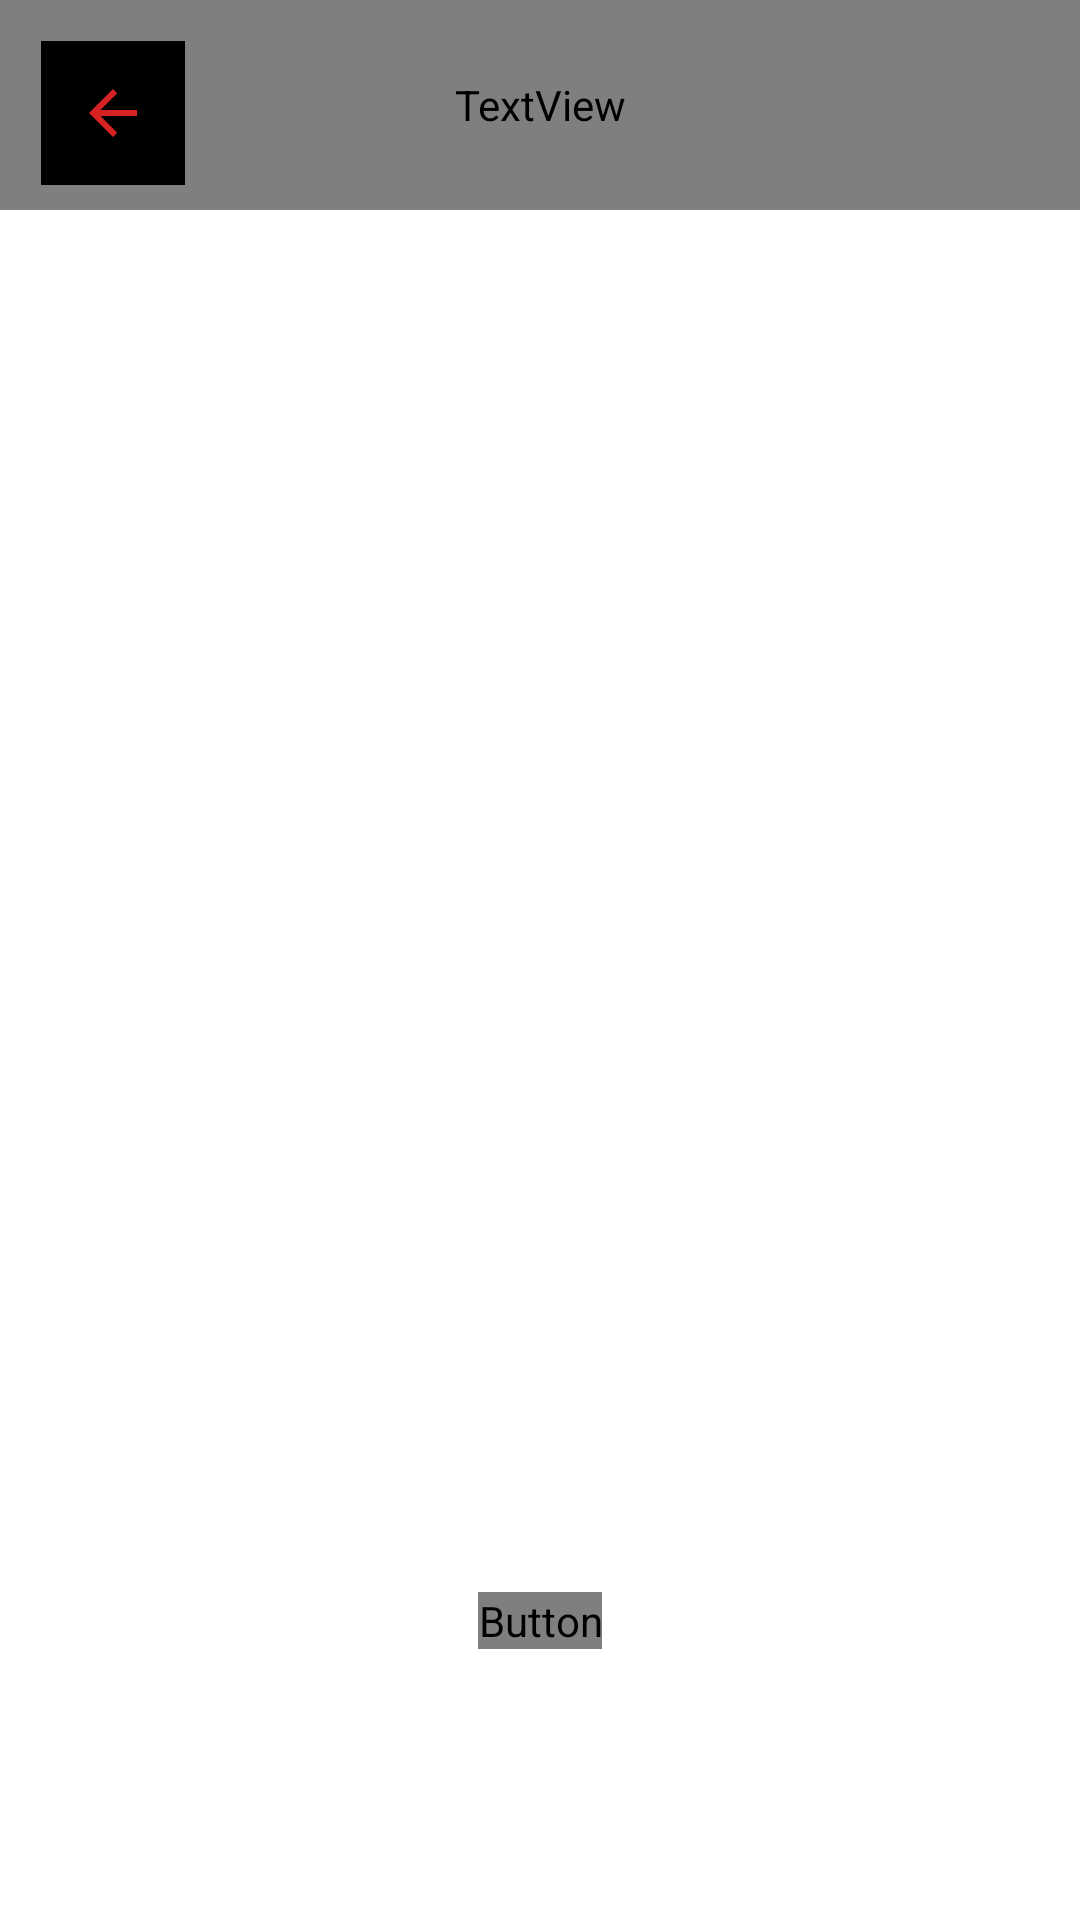

Icon bounding boxes for this 1080px x 1920px phone screenshot, format (x1, y1, x2, y2):
arrow back: (41, 41, 185, 185)
